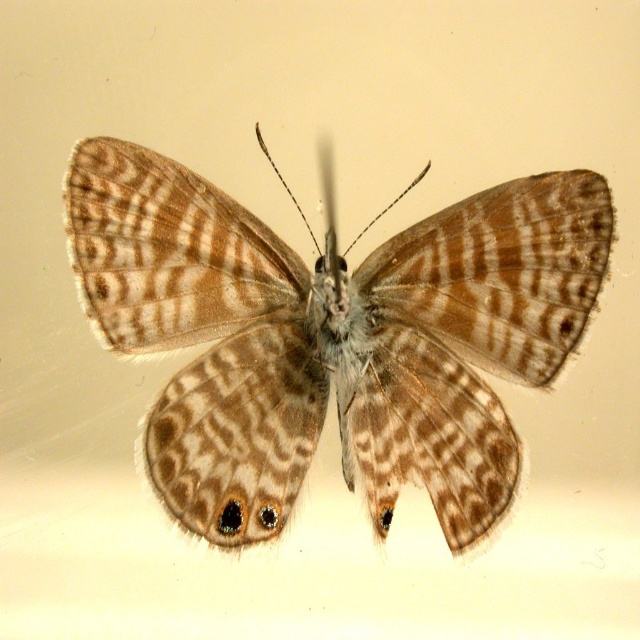Butterfly: (60, 108, 604, 559)
